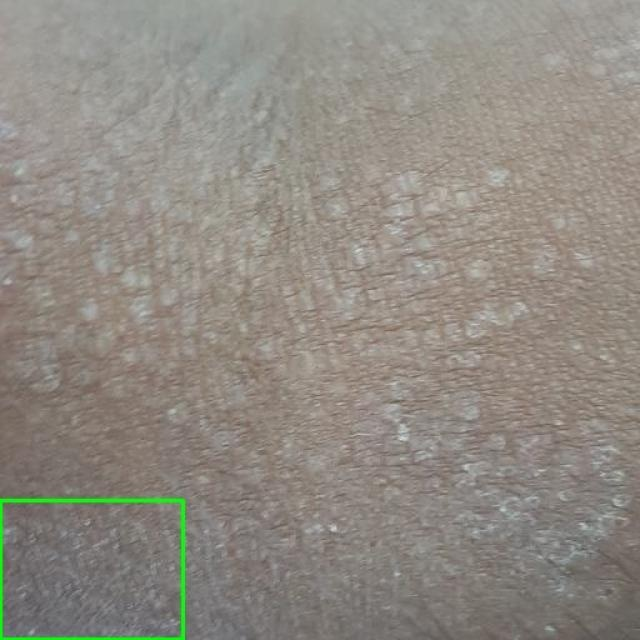Atopic Dermatitis: (0, 500, 184, 639)
